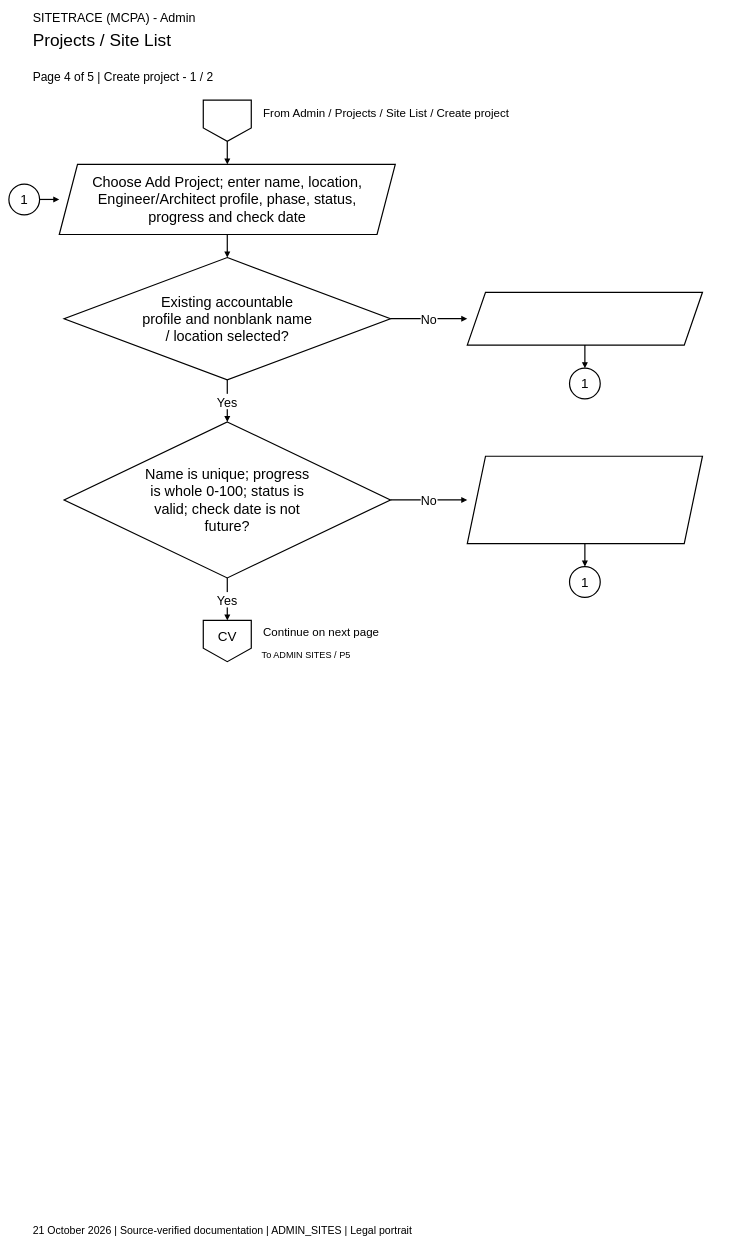
The diagram is 747 pixels wide and 1248 high, and some of its shapes have lost their labels. The centre of each missing label's shape, as x and y in pixels:
"CT" belongs at (227,120).
"Show required-field / profile error; complete the form" belongs at (584,319).
"Show the specific invalid-field or duplicate-name error; correct input" belongs at (584,499).
